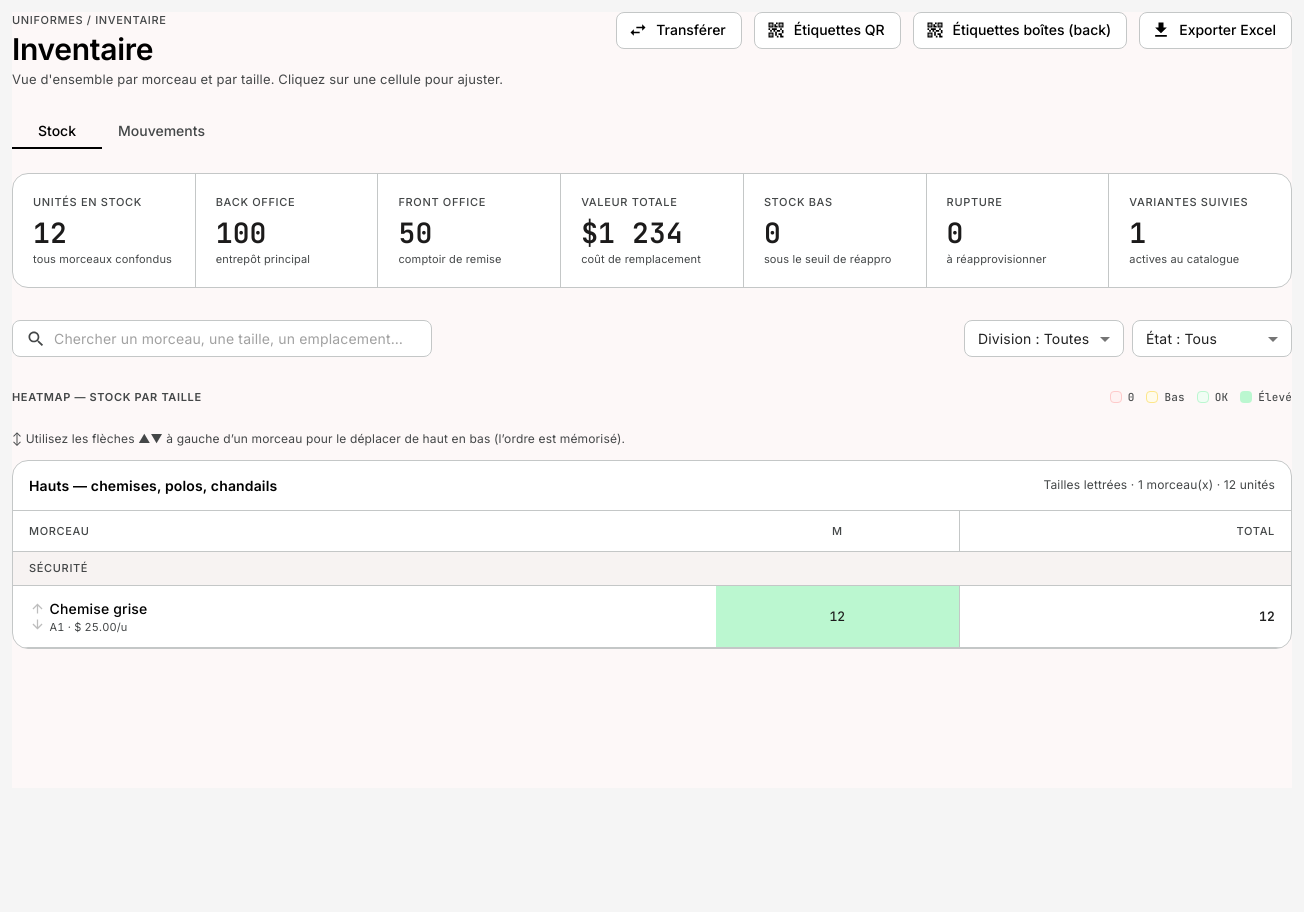
UniformInventoryPage › bascule sur l'onglet Mouvements et charge la liste des mouvements
Click the tab "Mouvements" at (161, 131), box [102,113,221,149]
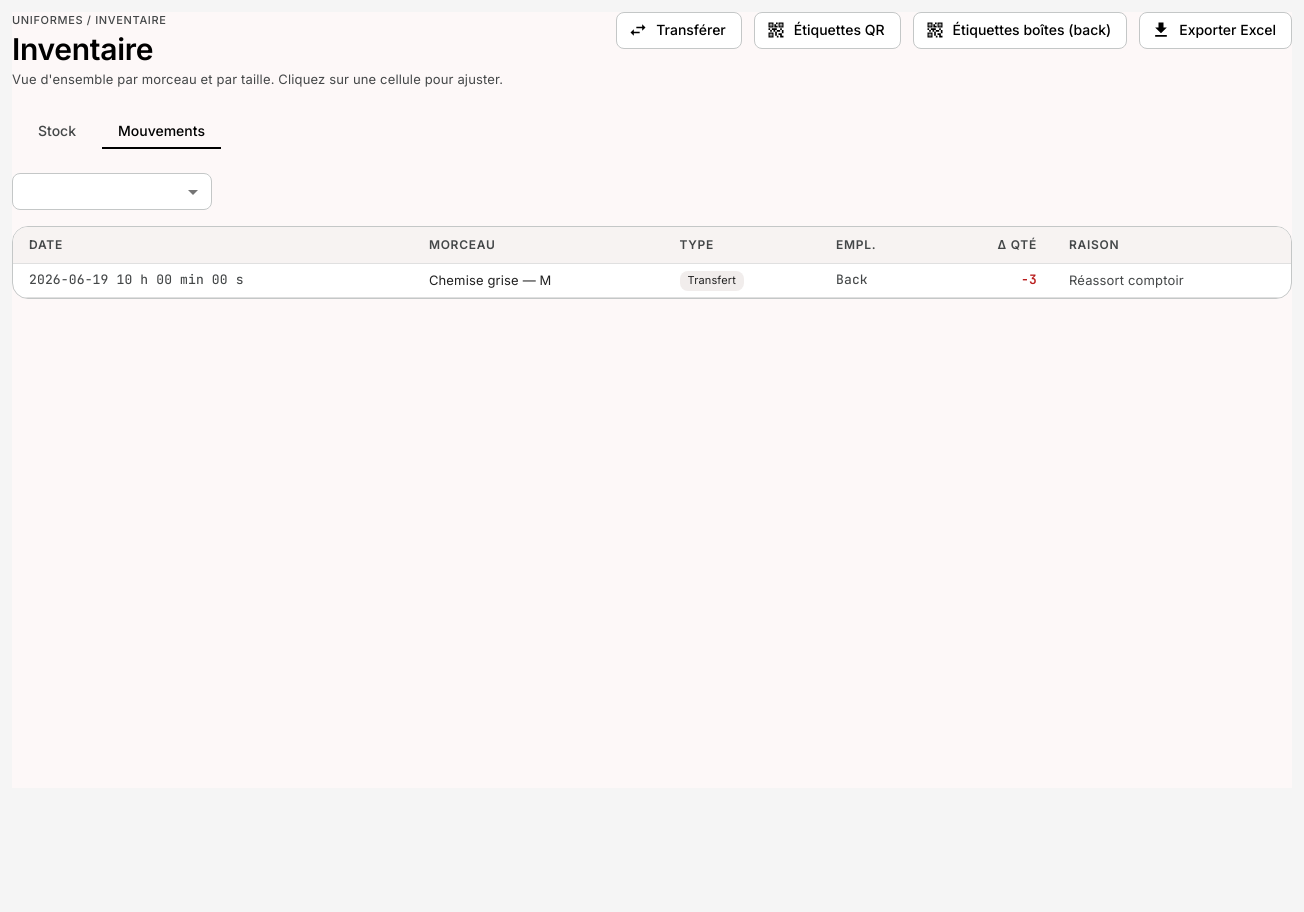
Check: the text "Réassort comptoir" is shown, box [1053,264,1291,297]
Check: the text "Transfert" is shown, box [688,273,736,287]
